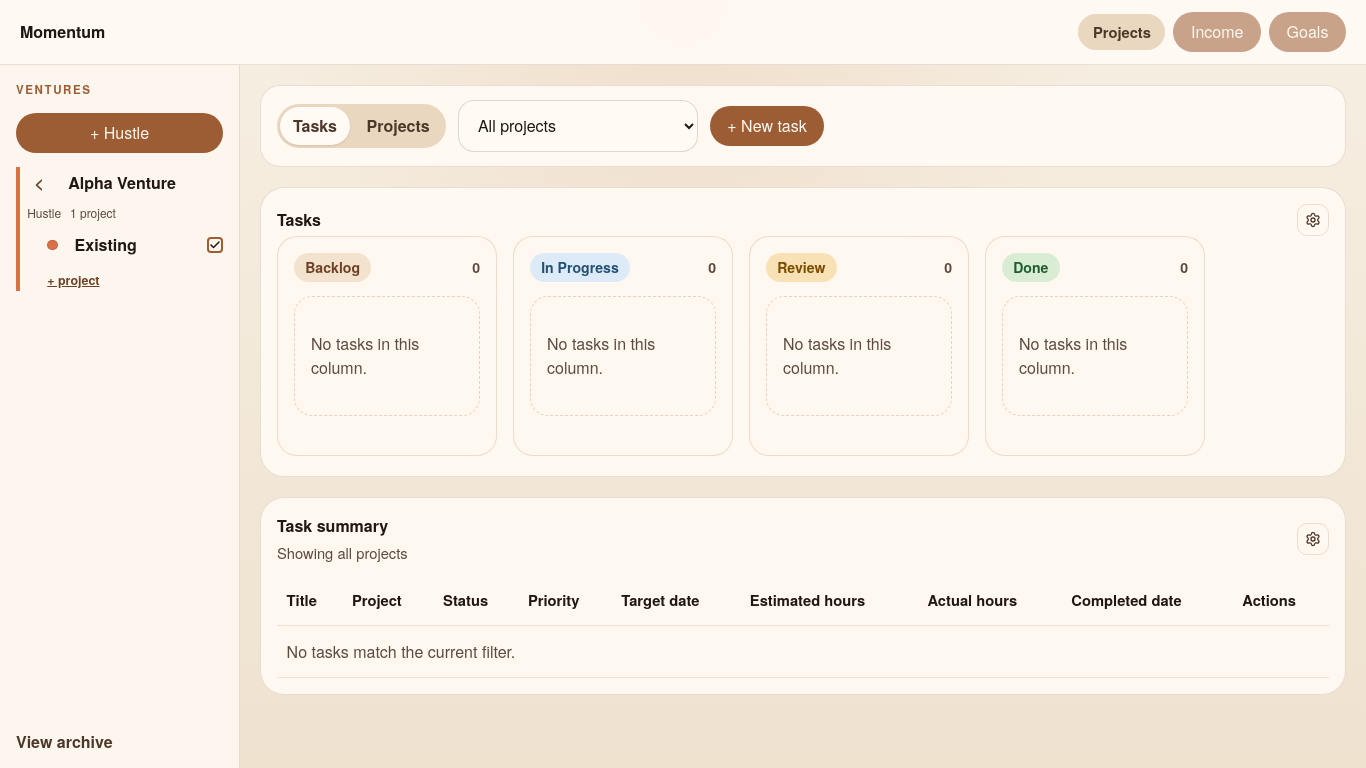
Ticket 1.6-9 — Project create, edit, archive, and type UX › offers an add-project action on the venture row with the venture preselected in the create dialog
The image size is (1366, 768).
Click the link "+ project".
click(73, 280)  # box [47,269,100,291]
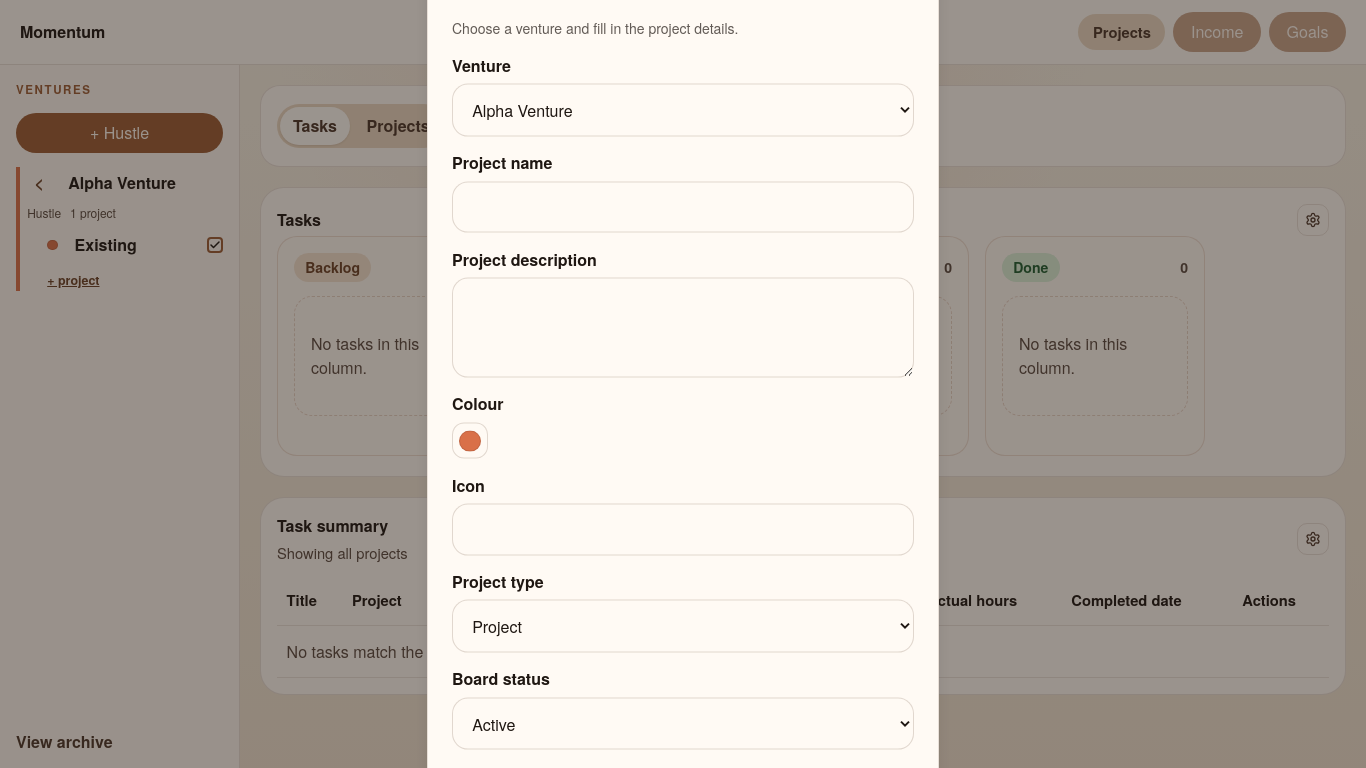
Now the dropdown labelled "Venture" shows "Alpha Venture", box [452,84,914,137]
